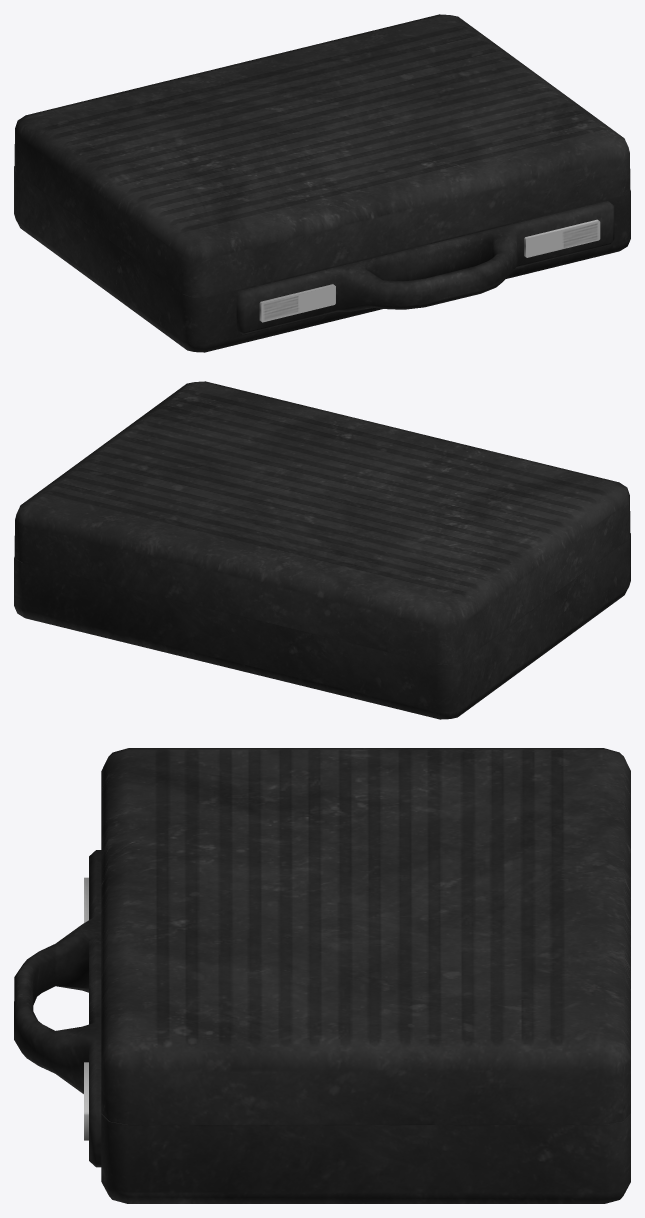
Rendered from collection_case_01.fbx.
3 renders of one model, top to bottom at view 1: azimuth 30°, elevation 25°; view 2: azimuth 150°, elevation 25°; view 3: azimuth 270°, elevation 25°, orthographic. The views are drawn at different scales.
Visible parts, largest first — view 1: case.top, case.bottom, case.bottom.clip01, case.bottom.clip02; view 2: case.top, case.bottom; view 3: case.top, case.bottom.
Boxes of the visible parts, x1=… form: case.top: x1=14, y1=14, x2=630, y2=297; case.bottom: x1=14, y1=166, x2=630, y2=352; case.bottom.clip01: x1=259, y1=284, x2=335, y2=322; case.bottom.clip02: x1=524, y1=219, x2=600, y2=257; case.top: x1=14, y1=381, x2=630, y2=664; case.bottom: x1=14, y1=533, x2=630, y2=719; case.top: x1=101, y1=748, x2=630, y2=1124; case.bottom: x1=14, y1=850, x2=630, y2=1203.
Bounding box in the file's own units: 123 × 29.84 × 103.
